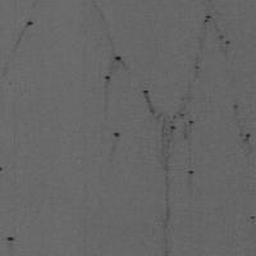Inclusion: (92, 1, 236, 256), (0, 19, 35, 82), (237, 131, 255, 147), (5, 236, 17, 242), (113, 131, 122, 138)
